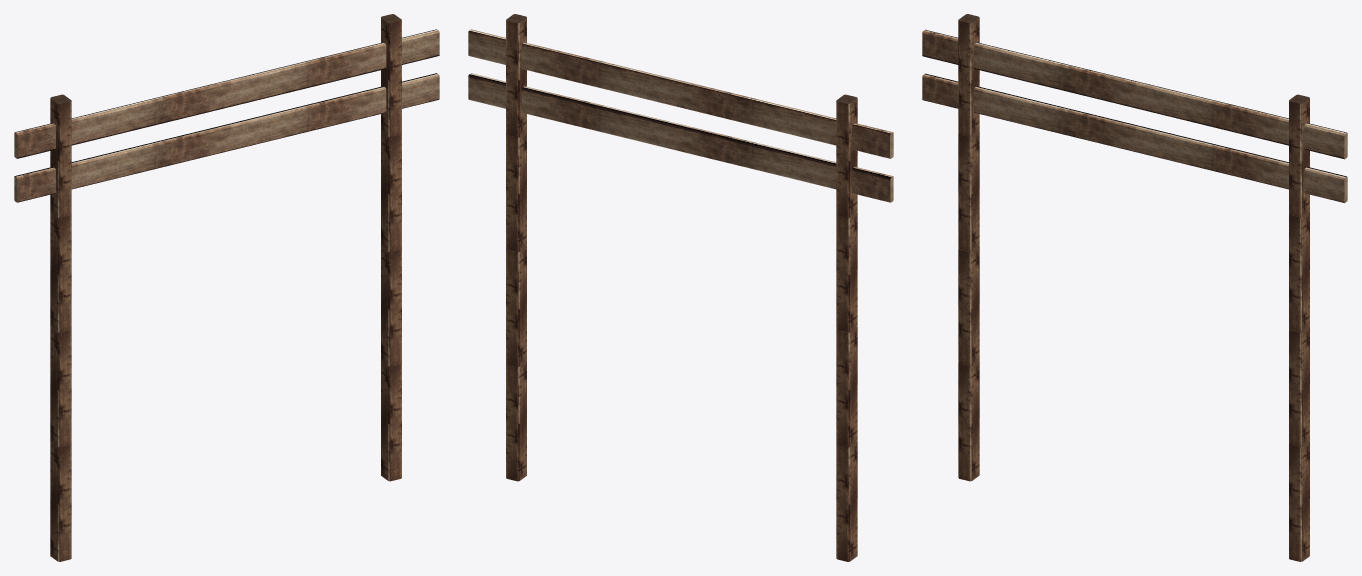
Rendered from fence_wood1.fbx.
3 renders of one model, left to right at view 1: azimuth 30°, elevation 25°; view 2: azimuth 150°, elevation 25°; view 3: azimuth 330°, elevation 25°, orthographic.
Parts seen in each view (by area): view 1: fence1; view 2: fence1; view 3: fence1.
Boxes of the visible parts, x1,y1,x2,y2 form: fence1: (14,14,439,561); fence1: (468,14,893,561); fence1: (922,14,1347,561).
Size of the model in its own units: 17.68 by 18.33 by 0.6639.
